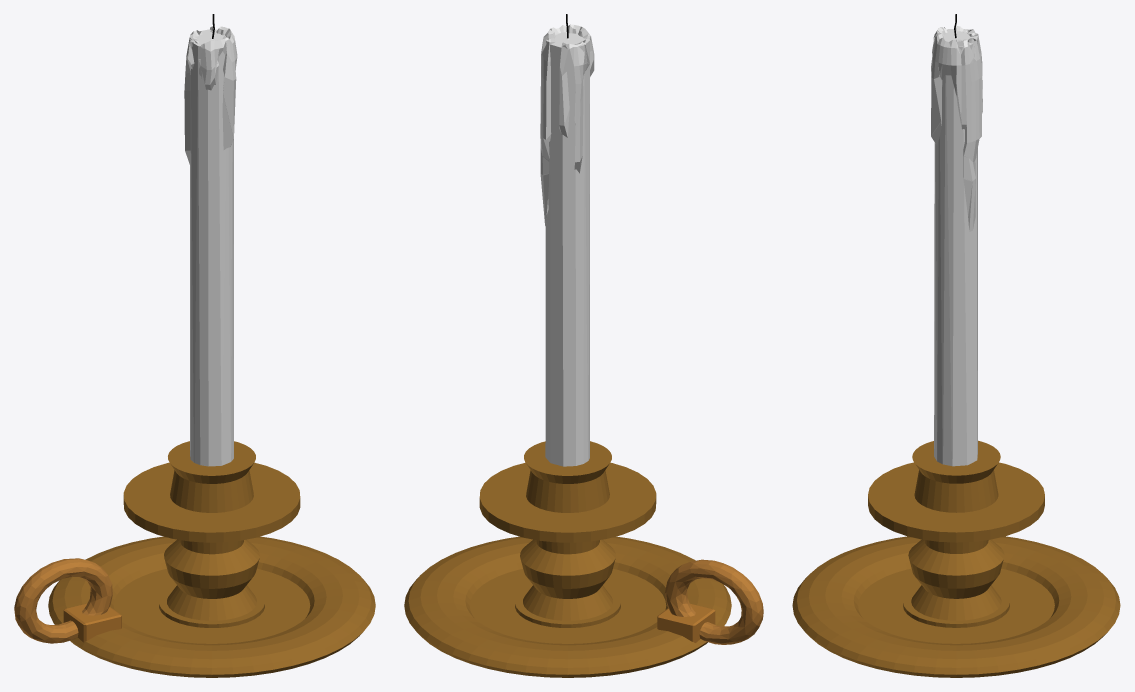
The model's file is Kitchen_SmallProps_Candle+handle.fbx.
3 views of the same model, side by side, from view 1: azimuth 30°, elevation 25°; view 2: azimuth 150°, elevation 25°; view 3: azimuth 270°, elevation 25° (orthographic).
Parts seen in each view (by area): view 1: Ljushållare, Ljus, Handtag, Melted_part, Cube; view 2: Ljushållare, Ljus, Melted_part, Handtag, Cube; view 3: Ljushållare, Ljus, Melted_part.
Boxes of the visible parts, <box> form: Ljushållare: <box>48,441,375,677</box>; Ljus: <box>190,29,233,466</box>; Handtag: <box>14,558,112,643</box>; Melted_part: <box>184,26,237,165</box>; Cube: <box>63,603,121,642</box>; Ljushållare: <box>404,441,731,677</box>; Ljus: <box>545,32,589,466</box>; Melted_part: <box>540,24,594,226</box>; Handtag: <box>665,559,763,644</box>; Cube: <box>657,603,715,642</box>; Ljushållare: <box>792,440,1120,677</box>; Ljus: <box>934,29,977,466</box>; Melted_part: <box>931,25,982,231</box>.
Size of the model in its own units: 17.6 by 29.98 by 14.81.
